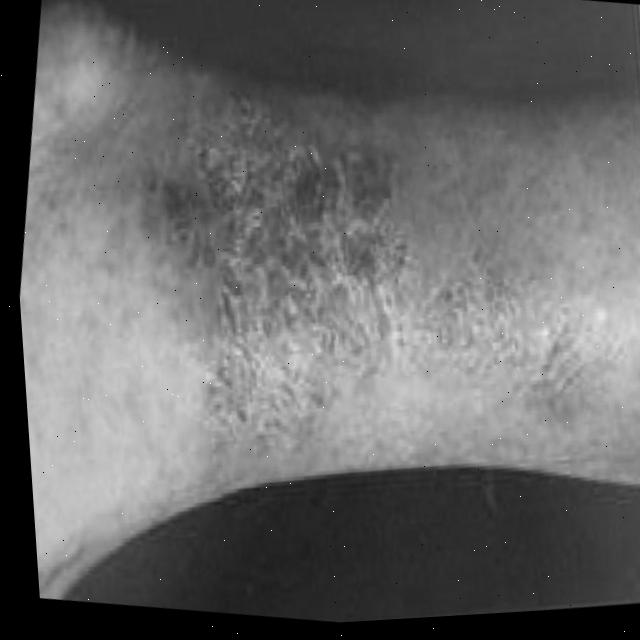Eczema: (104, 73, 640, 515)
